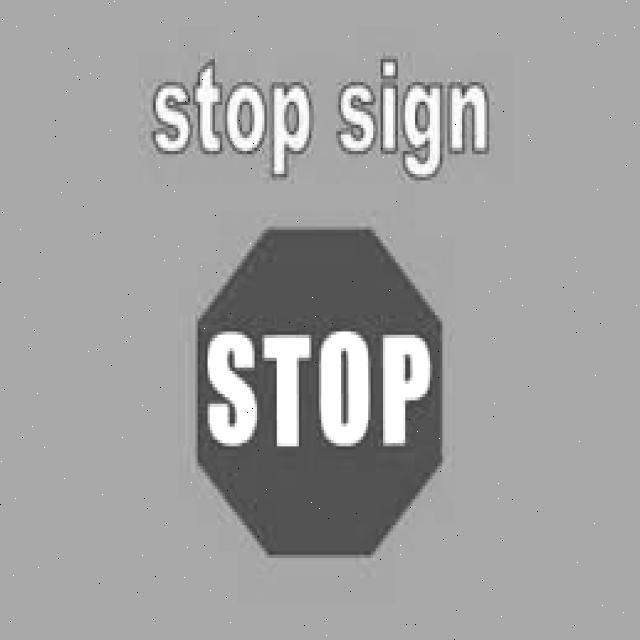stop sign: (195, 228, 446, 557)
